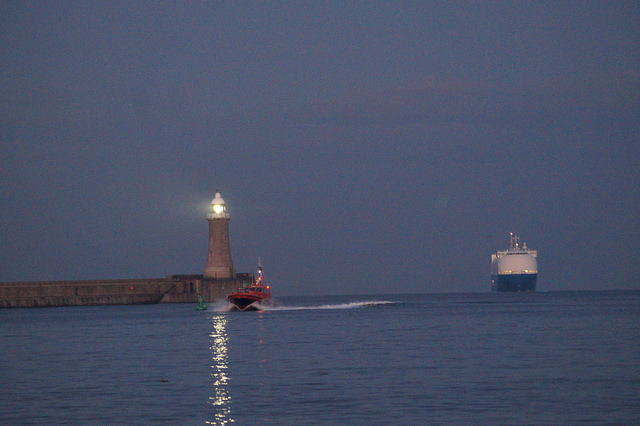PCC: (491, 230, 542, 293)
boat: (222, 261, 283, 311)
